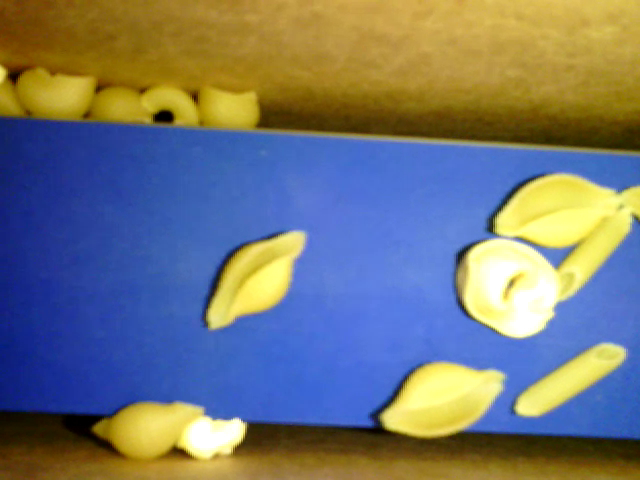elbow: (139, 82, 198, 126)
penne: (511, 341, 626, 419), (555, 204, 631, 300)
shell: (378, 357, 506, 440), (203, 229, 305, 332), (491, 172, 623, 249), (91, 397, 203, 459), (17, 68, 97, 120), (197, 83, 259, 128), (87, 83, 150, 122)
tortellini: (456, 238, 559, 337)
